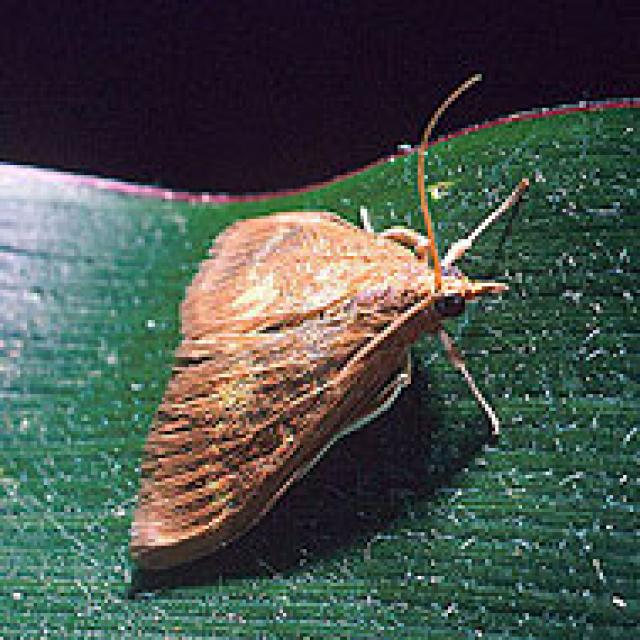cornborer-Adult-: (95, 160, 551, 581)
